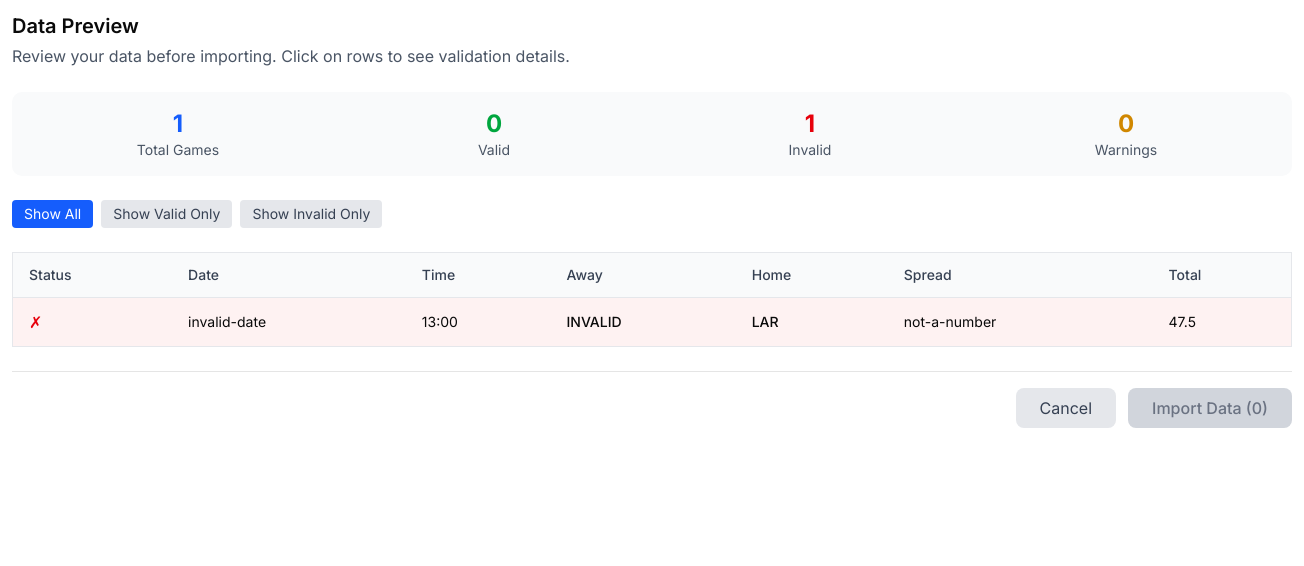
it: DataPreview › should show error details when row is clicked
Note: Click on the invalid row to see details
Click the text "invalid": (652, 322) x1=12 y1=298 x2=1292 y2=346
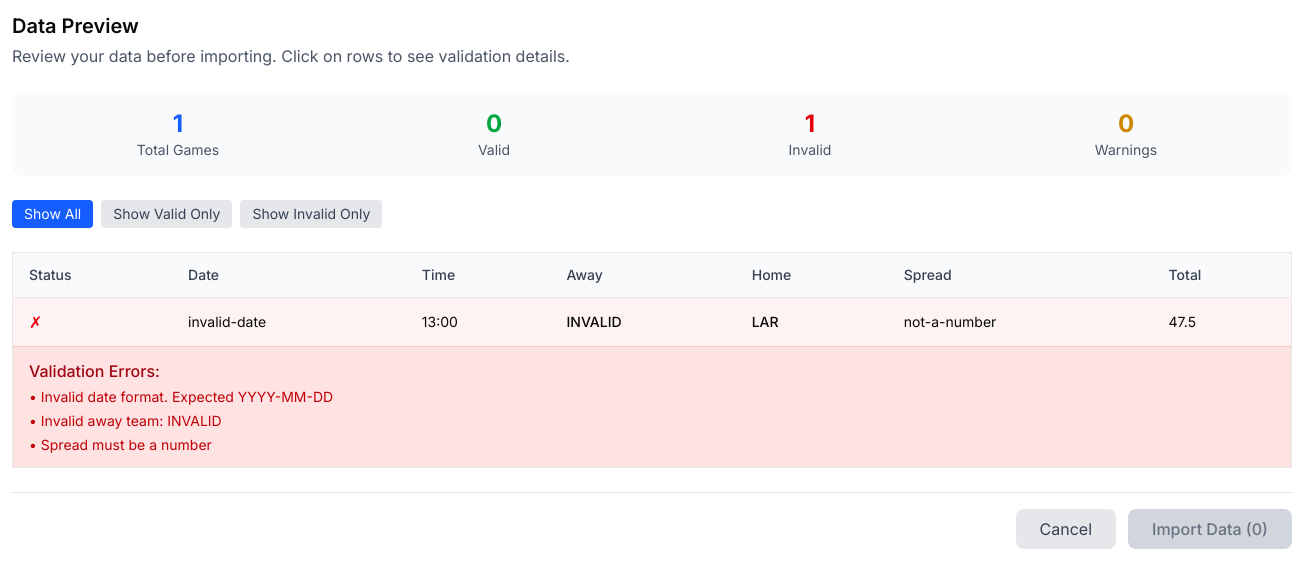
Result: the text "• Invalid date format. Expected YYYY-MM-DD" is shown at x1=29 y1=388 x2=333 y2=405
Result: the text "• Invalid away team: INVALID" is shown at x1=29 y1=412 x2=222 y2=429
Result: the text "• Spread must be a number" is shown at x1=29 y1=436 x2=212 y2=453
